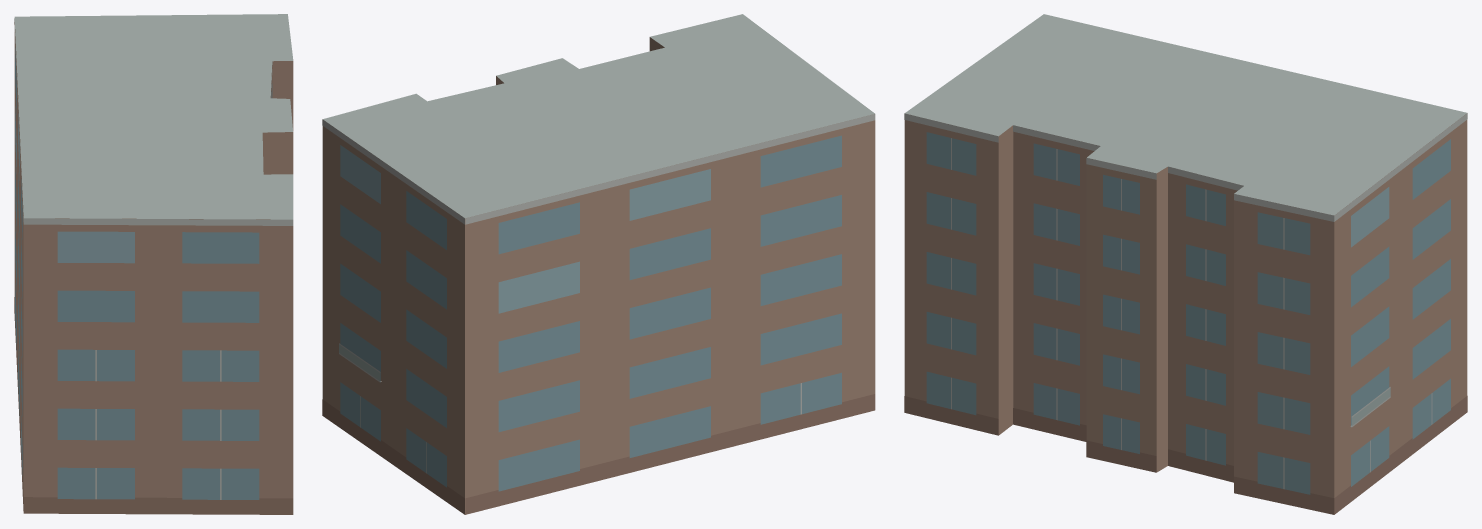
The model's file is survey-upis-32961688.glb.
3 renders of one model, left to right at view 1: azimuth 30°, elevation 25°; view 2: azimuth 150°, elevation 25°; view 3: azimuth 270°, elevation 25°, orthographic.
Visible parts, largest first — view 1: survey-upis-32961688.tmp; view 2: survey-upis-32961688.tmp; view 3: survey-upis-32961688.tmp.
Part boxes in pixels (x1=…): survey-upis-32961688.tmp: x1=14, y1=14, x2=293, y2=514; survey-upis-32961688.tmp: x1=322, y1=14, x2=875, y2=514; survey-upis-32961688.tmp: x1=904, y1=14, x2=1467, y2=514.
Bounding box in the file's own units: 16.25 × 11.25 × 19.18.
